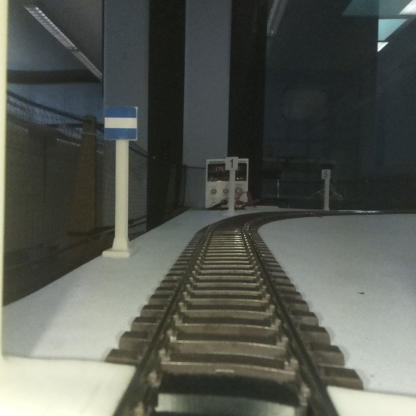start: (104, 105, 136, 255)
white-info-1: (226, 156, 238, 215)
